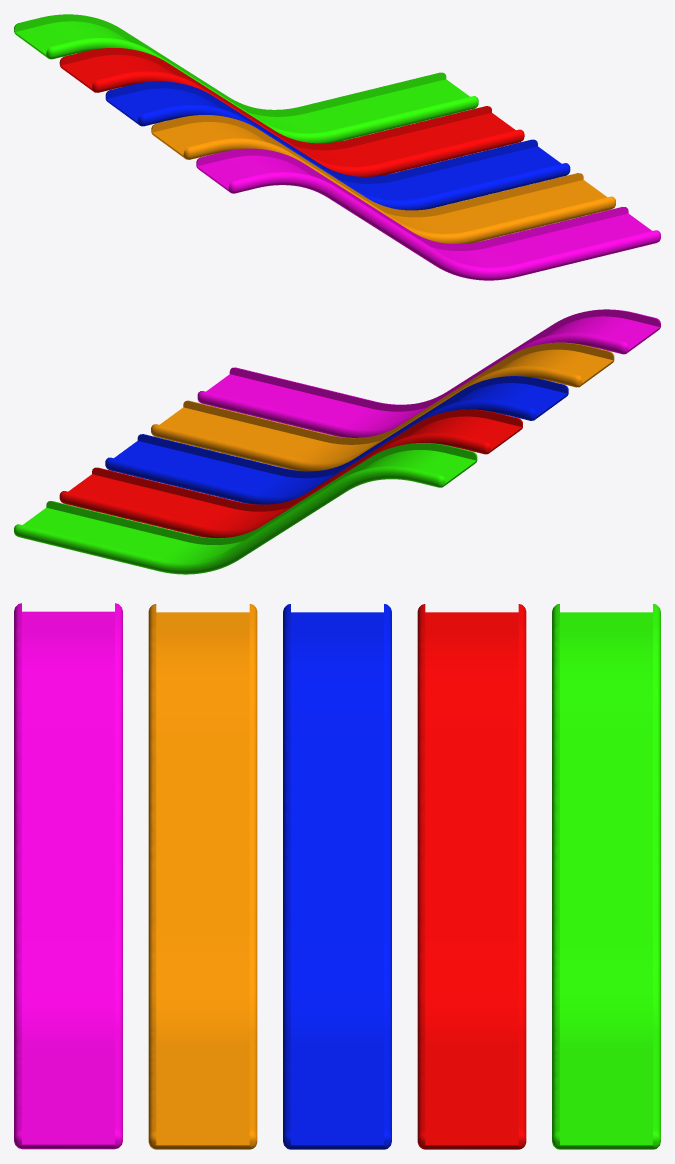
Rendered from cầu trượt dài.fbx.
The picture shows the model from 3 angles, top to bottom: view 1: azimuth 30°, elevation 25°; view 2: azimuth 150°, elevation 25°; view 3: azimuth 270°, elevation 25°; orthographic projection. The views are drawn at different scales.
Visible parts, largest first — view 1: Boole_4, Boole_3, Boole, Boole_2, Boole_1; view 2: Boole, Boole_3, Boole_2, Boole_1, Boole_4; view 3: Boole_3, Boole_1, Boole_4, Boole_2, Boole.
Boxes of the visible parts, x1=… form: Boole_4: x1=196, y1=148, x2=660, y2=280; Boole_3: x1=151, y1=115, x2=615, y2=243; Boole: x1=14, y1=14, x2=478, y2=143; Boole_2: x1=105, y1=81, x2=570, y2=210; Boole_1: x1=59, y1=48, x2=524, y2=176; Boole: x1=14, y1=443, x2=477, y2=574; Boole_3: x1=151, y1=342, x2=614, y2=471; Boole_2: x1=105, y1=376, x2=568, y2=504; Boole_1: x1=59, y1=409, x2=522, y2=538; Boole_4: x1=197, y1=309, x2=660, y2=437; Boole_3: x1=148, y1=604, x2=257, y2=1149; Boole_1: x1=417, y1=604, x2=526, y2=1149; Boole_4: x1=14, y1=603, x2=122, y2=1149; Boole_2: x1=283, y1=604, x2=391, y2=1149; Boole: x1=552, y1=604, x2=660, y2=1149.
Bounding box in the file's own units: 273 × 99.25 × 241.
